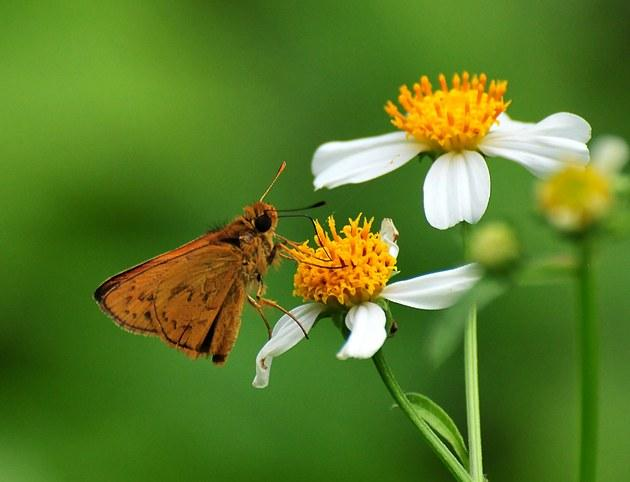Hesperiidae: (92, 163, 336, 368)
